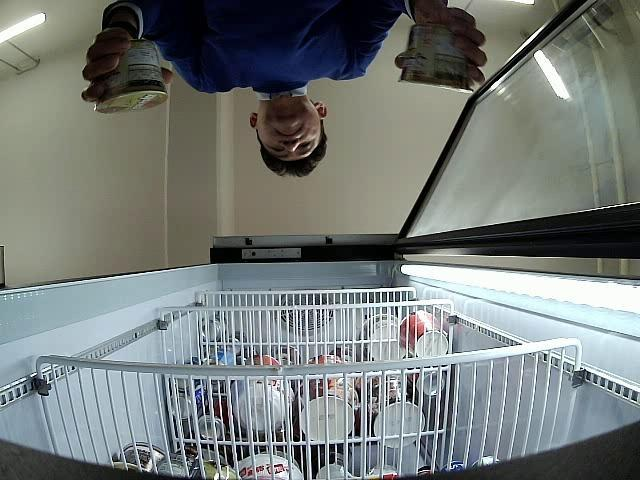04_chapagetti_S: (94, 40, 170, 114), (397, 24, 474, 92)
